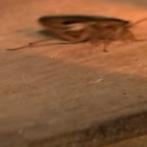cockroach: (34, 13, 135, 44)
